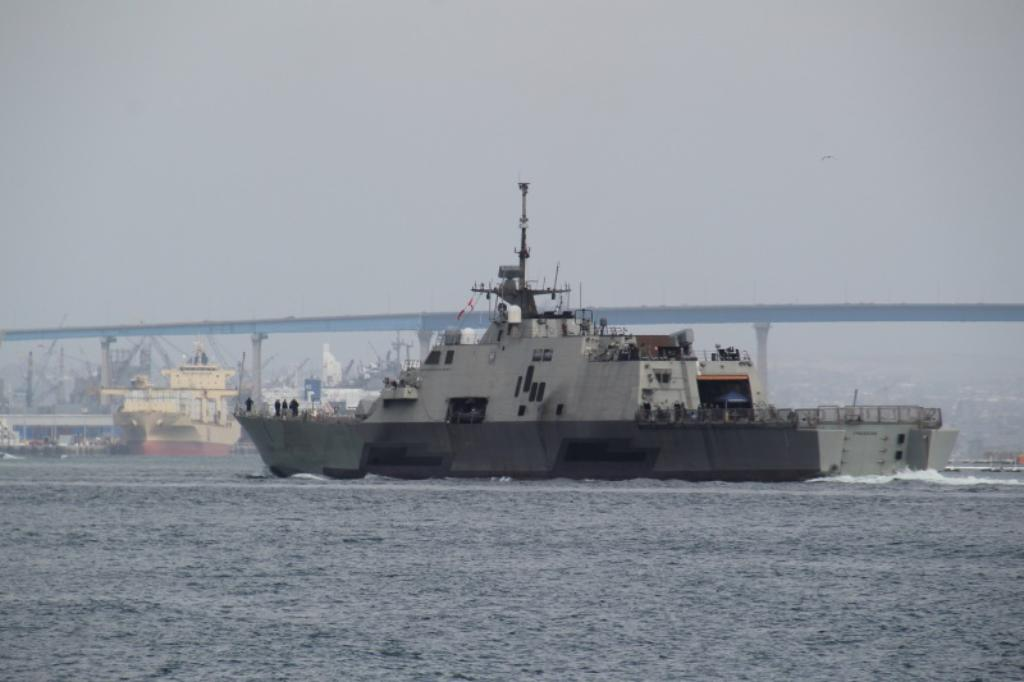Warship: (230, 175, 960, 485)
